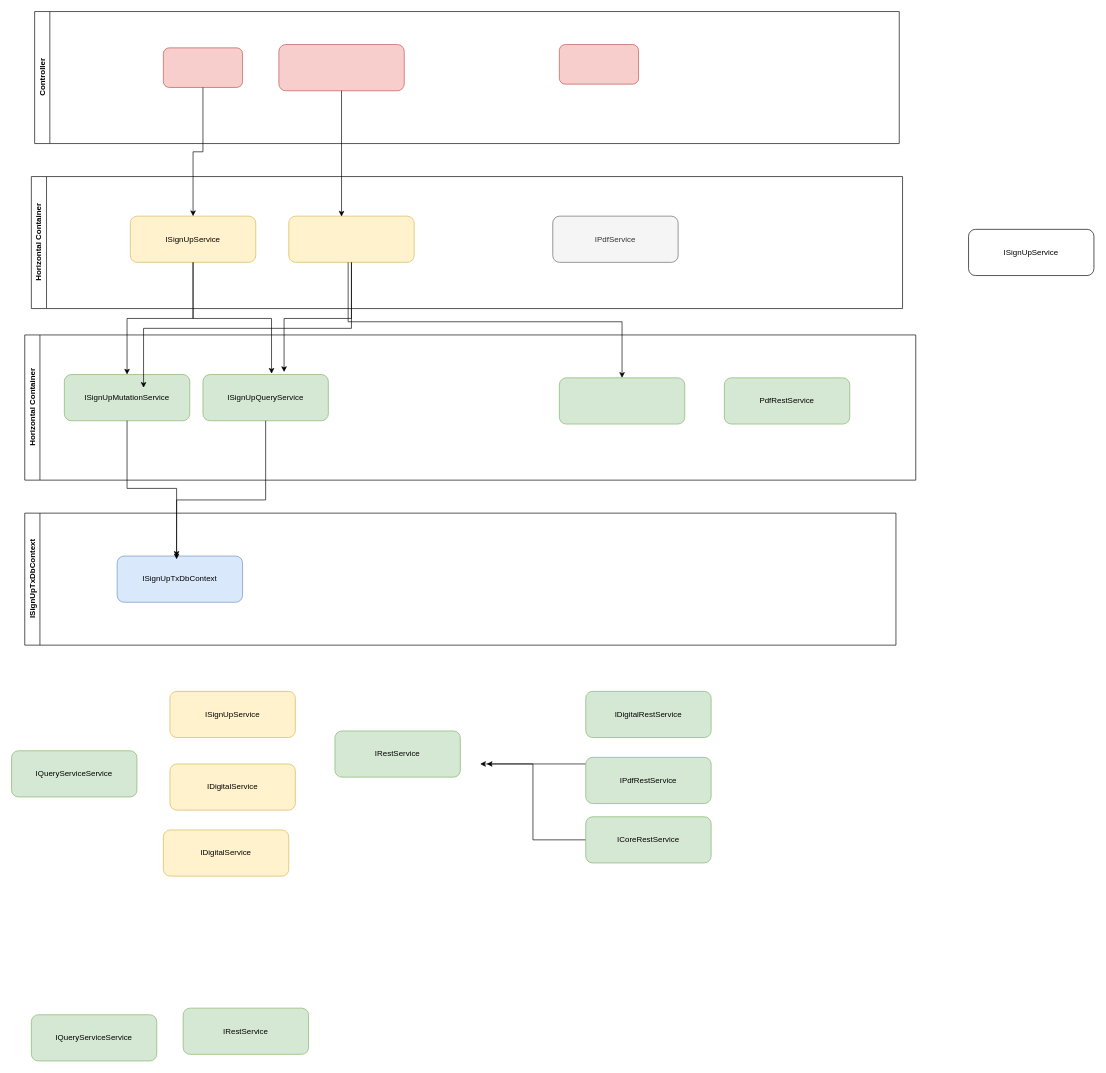
Some shapes in this 1106 by 1073 pixel diagram are drawn without their labels. The centre of each missing label's shape, as x and y in pixels:
DigitalSignatureController: [341,67]
IDigitalSignatureRestService: [622,400]
IDigitalSignatureService: [351,238]
PdfController: [599,64]
SignupController: [203,67]
